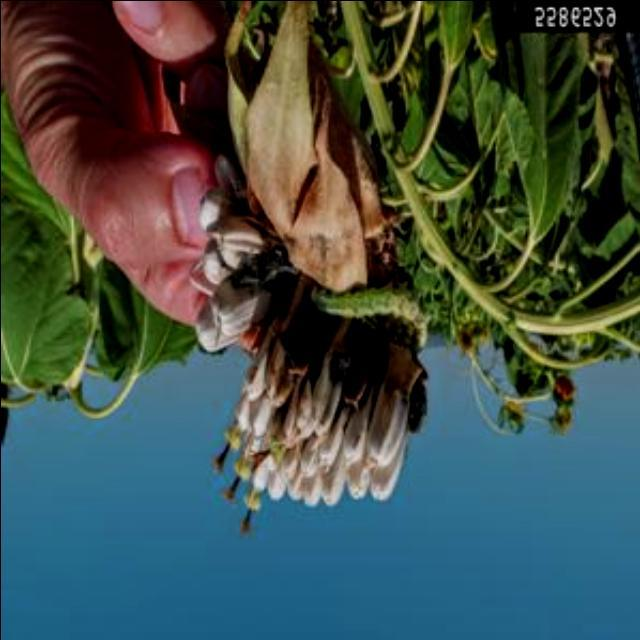Cotton bollworm: (300, 266, 444, 360)
